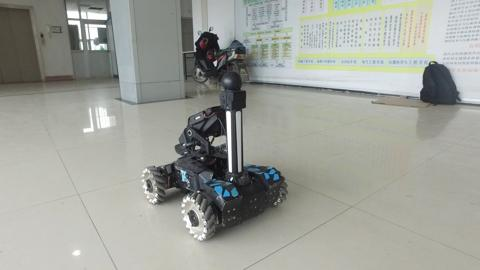bag: (413, 55, 466, 114)
chariot: (128, 66, 301, 245)
